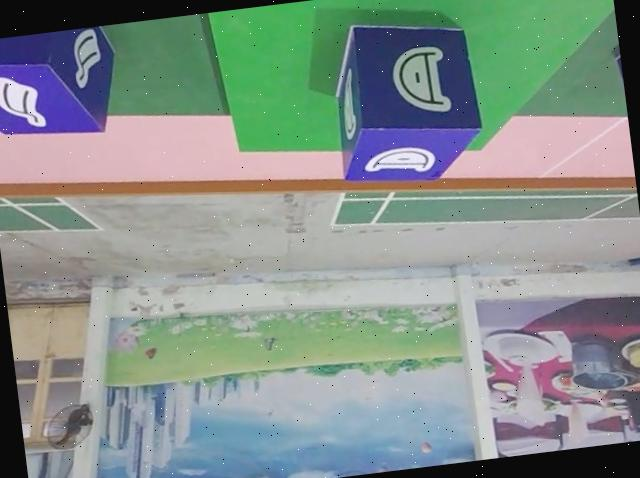R2 Real Blue: (323, 4, 485, 188), (0, 24, 123, 144)
